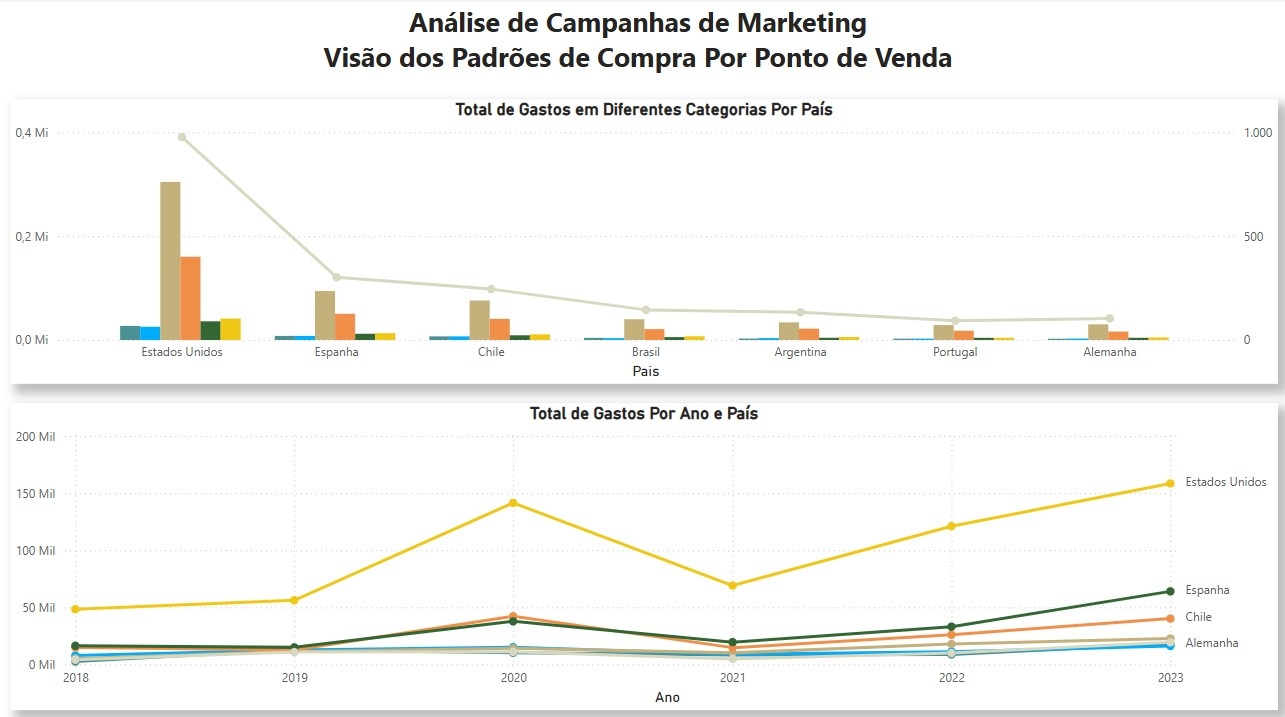

The dashboard page shown, as its layout file describes it:
{"tool":"powerbi","page":{"name":"Visão Pontos de Venda","canvas":[1280,720],"ordinal":3},"visuals":[{"type":"textbox","box":[0,0,1271.9,88.1],"z":0},{"type":"lineClusteredColumnComboChart","title":"Total de Gastos em Diferentes Categorias Por País","fields":{"Category":["DadosMarketing.Pais"],"Y":["Sum(DadosMarketing.Gasto com Alimentos)","Sum(DadosMarketing.Gasto com Brinquedos)","Sum(DadosMarketing.Gasto com Eletronicos)","Sum(DadosMarketing.Gasto com Moveis)","Sum(DadosMarketing.Gasto com Utilidades)","Sum(DadosMarketing.Gasto com Vestuario)"],"Y2":["CountNonNull(DadosMarketing.ID)"]},"box":[11,101.4,1261.6,283.6],"z":1000},{"type":"lineChart","title":"Total de Gastos Por Ano e País","fields":{"Category":["DadosMarketing.Data Cadastro.Variation.Hierarquia de datas.Ano"],"Series":["DadosMarketing.Pais"],"Y":["DadosMarketing.TotalGasto"]},"box":[11,402.7,1261.6,305.5],"z":2000}]}

Visuals, with their boxes in screenshot pixels (x1, y1, x2, y2), scaled from the page's 1280x720 canvas onto the 1285x717 screenshot:
textbox: left=0, top=0, right=1277, bottom=88
"Total de Gastos em Diferentes Categorias Por País" lineClusteredColumnComboChart: left=11, top=101, right=1278, bottom=383
"Total de Gastos Por Ano e País" lineChart: left=11, top=401, right=1278, bottom=705
